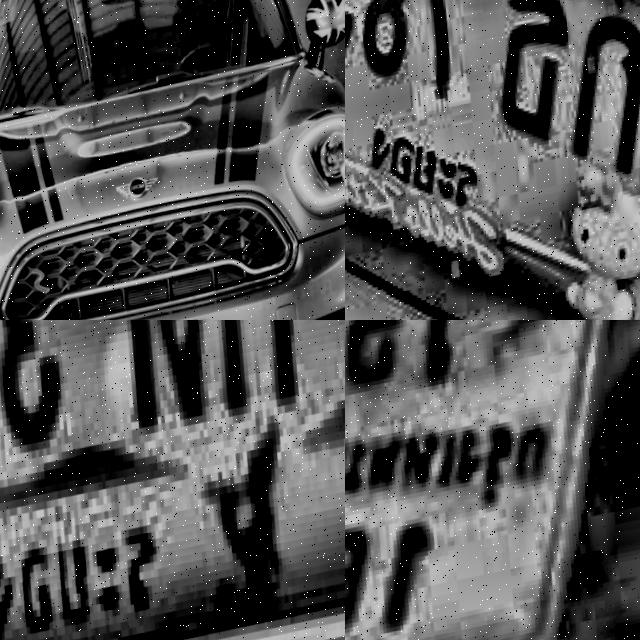license-plate: (0, 320, 345, 640), (345, 0, 640, 320), (345, 320, 640, 640)
